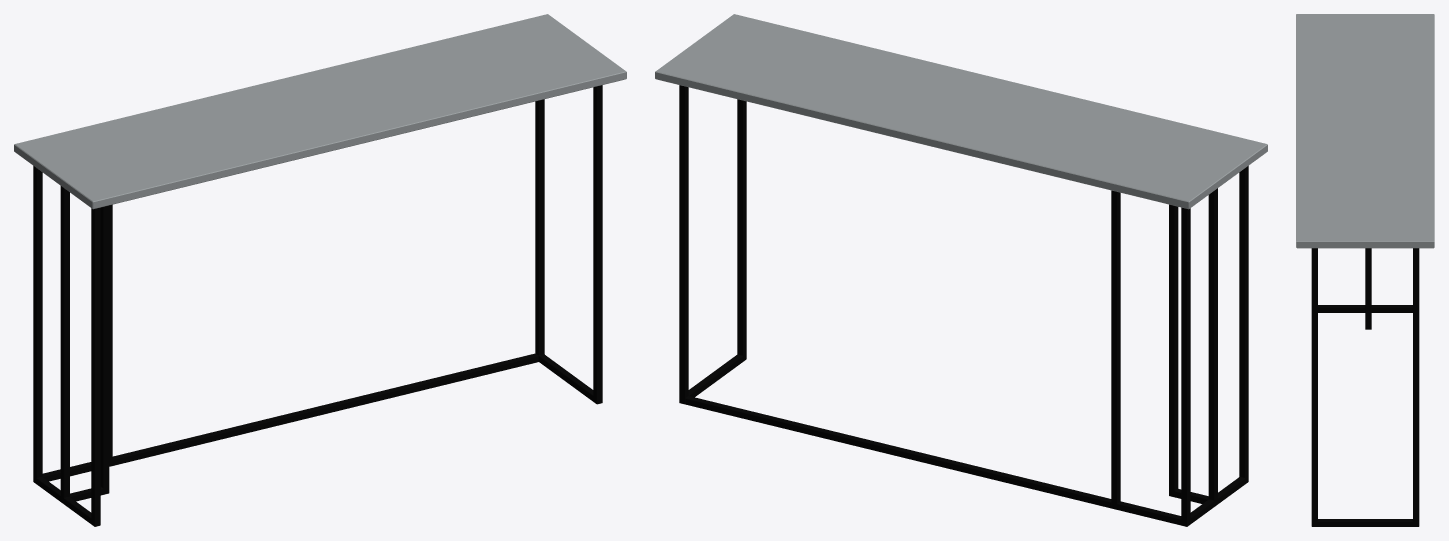
The model's file is F-stop.glb.
3 renders of one model, left to right at view 1: azimuth 30°, elevation 25°; view 2: azimuth 150°, elevation 25°; view 3: azimuth 270°, elevation 25°, orthographic. The views are drawn at different scales.
Visible parts, largest first — view 1: Solid.1, Assemble.2; view 2: Solid.1, Assemble.2; view 3: Solid.1, Assemble.2.
Part boxes in pixels (x1,y1,x2,y2): Solid.1: (14, 14, 626, 209); Assemble.2: (33, 85, 602, 526); Solid.1: (655, 14, 1267, 209); Assemble.2: (679, 85, 1248, 526); Solid.1: (1296, 14, 1434, 248); Assemble.2: (1311, 248, 1419, 526).
Bounding box in the file's own units: 1.76 × 1.05 × 0.45.
2 materials, 1 textured.
